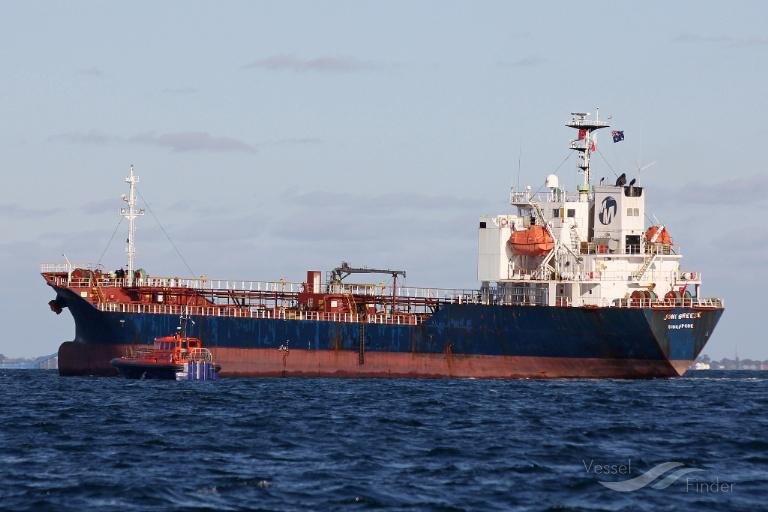OCR: (659, 312, 711, 340)
